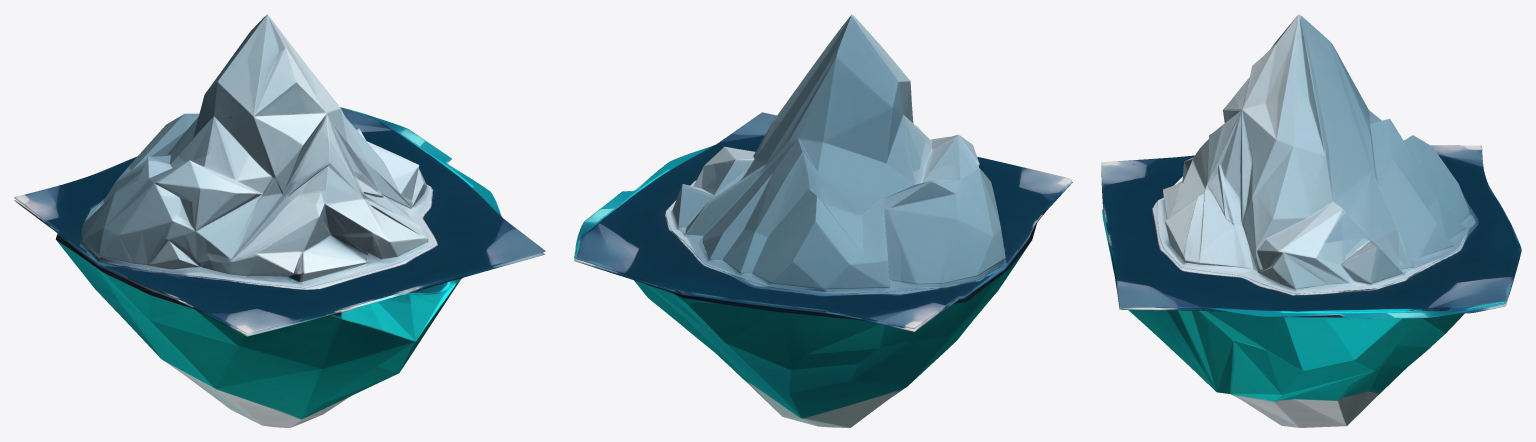
File: iceberg-web.glb
3 renders of one model, left to right at view 1: azimuth 30°, elevation 25°; view 2: azimuth 150°, elevation 25°; view 3: azimuth 270°, elevation 25°, orthographic. The views are drawn at different scales.
Parts seen in each view (by area): view 1: node_0; view 2: node_0; view 3: node_0.
Part boxes in pixels (x1,y1,x2,y2): node_0: [14, 14, 545, 427]; node_0: [574, 14, 1072, 427]; node_0: [1101, 14, 1521, 427].
Size of the model in its own units: 0.9396 by 0.9812 by 0.9486.
Materials: 1 (1 with a texture image).
